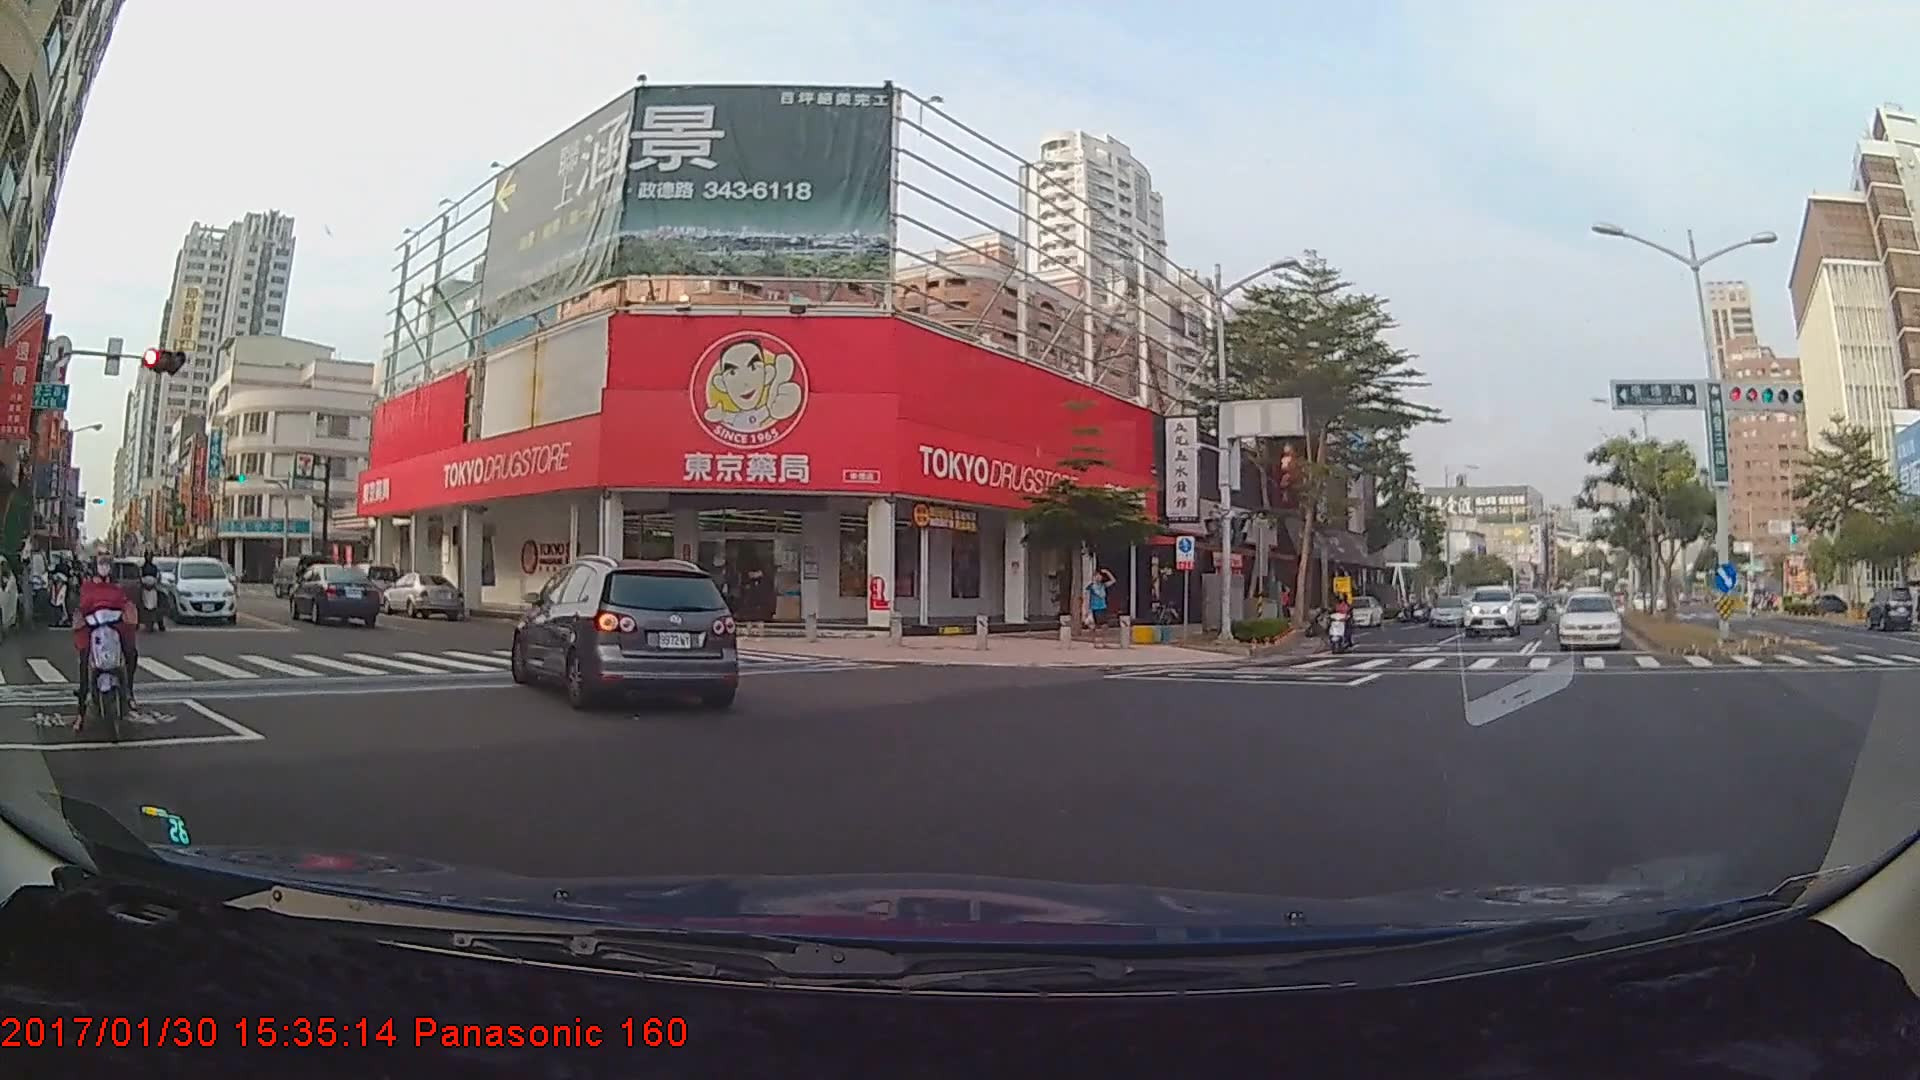pedestrian: (740, 564, 778, 653), (1083, 568, 1119, 648)
rider: (61, 543, 145, 763), (134, 551, 174, 639), (46, 544, 80, 625), (1323, 588, 1361, 654)
vehicle: (515, 557, 736, 711), (291, 563, 380, 626), (86, 557, 178, 612), (163, 556, 233, 625), (378, 568, 464, 617), (1554, 592, 1624, 649), (1461, 584, 1521, 636), (1861, 584, 1914, 631), (1335, 591, 1379, 627), (1429, 594, 1473, 627), (1504, 592, 1539, 624)
